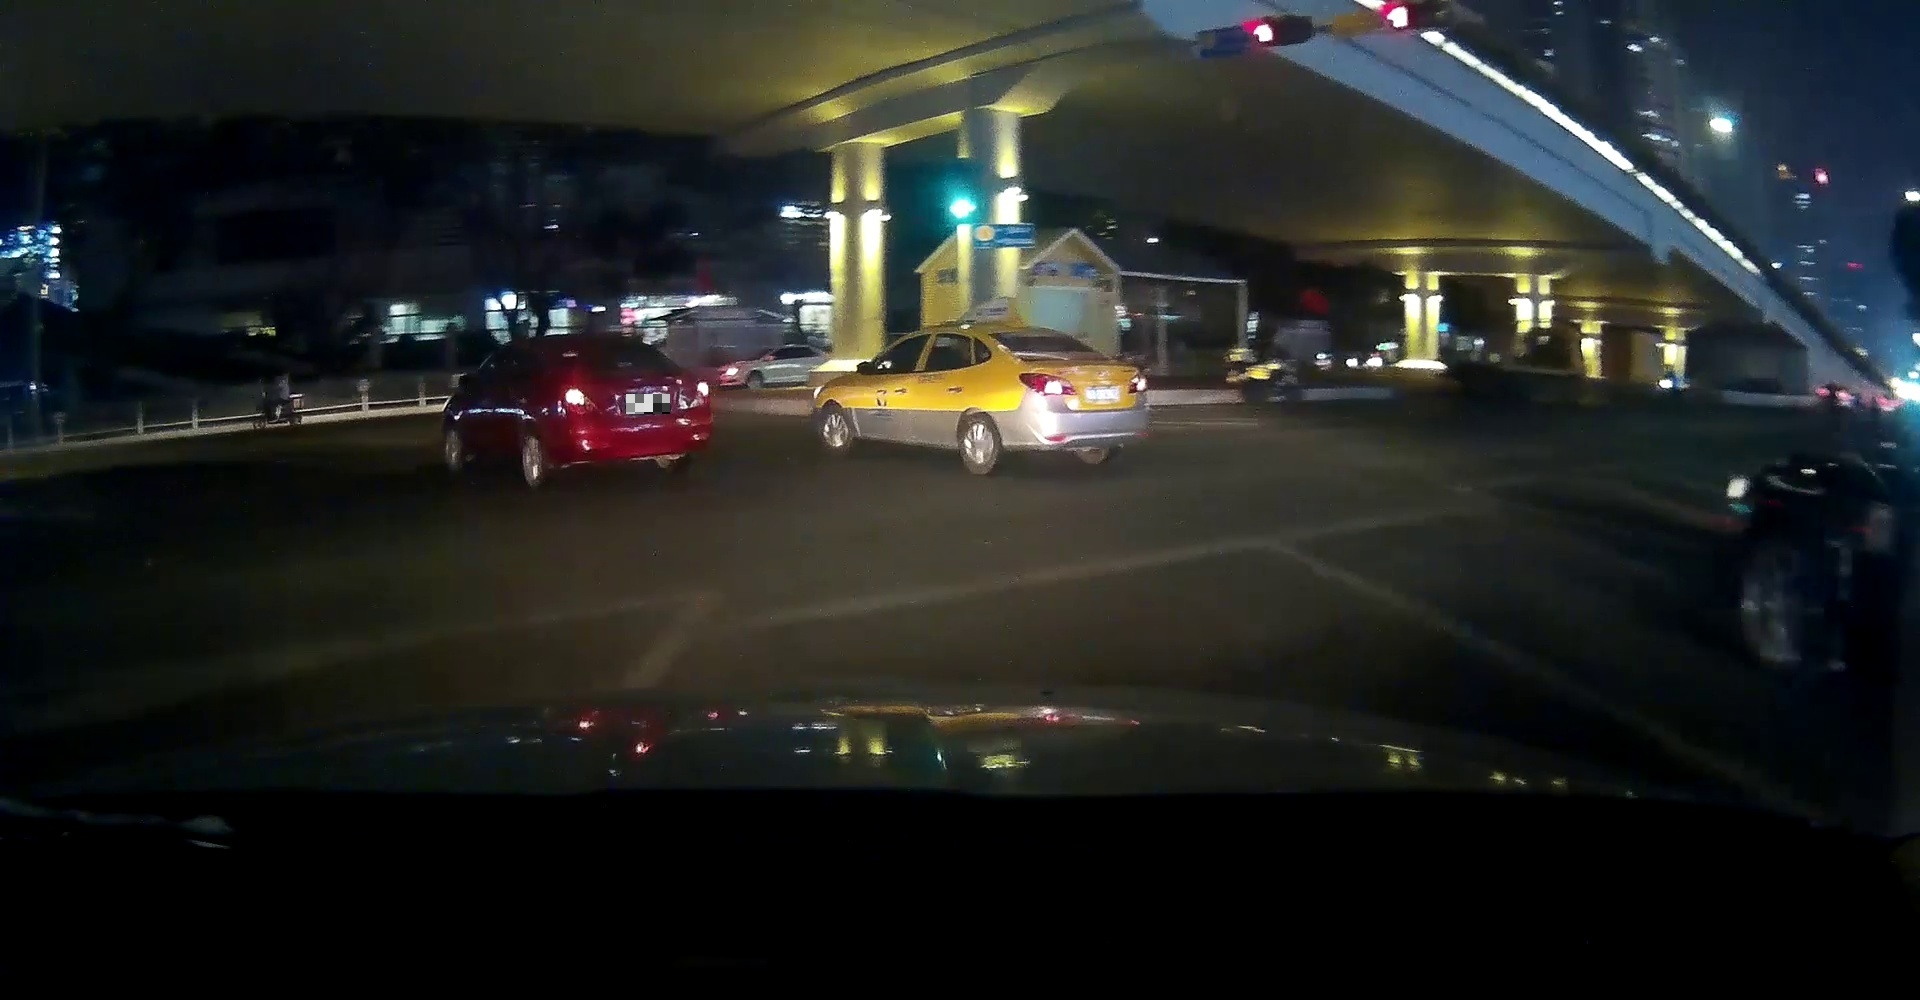L_light: (1018, 372, 1079, 396), (563, 387, 601, 415)
R_light: (686, 379, 709, 409), (1128, 371, 1149, 393)
T_light: (616, 362, 634, 368), (1065, 357, 1088, 360)
night-no: (540, 332, 714, 491), (987, 324, 1150, 476)
plate_1: (626, 393, 670, 414)
